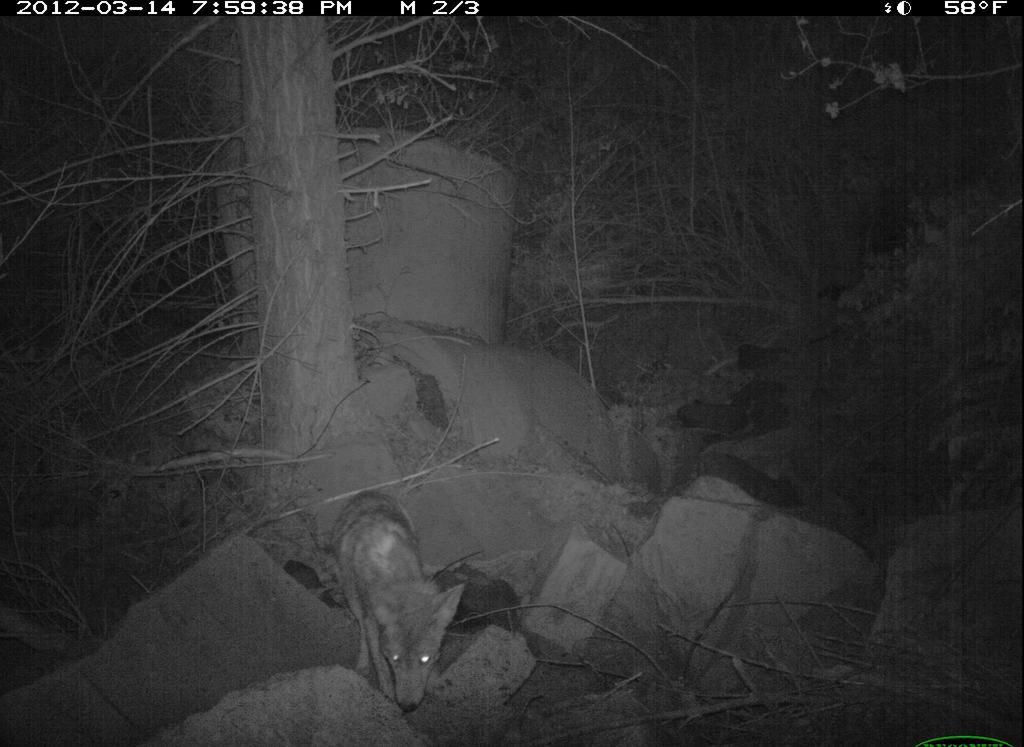coyote: (321, 479, 484, 719)
